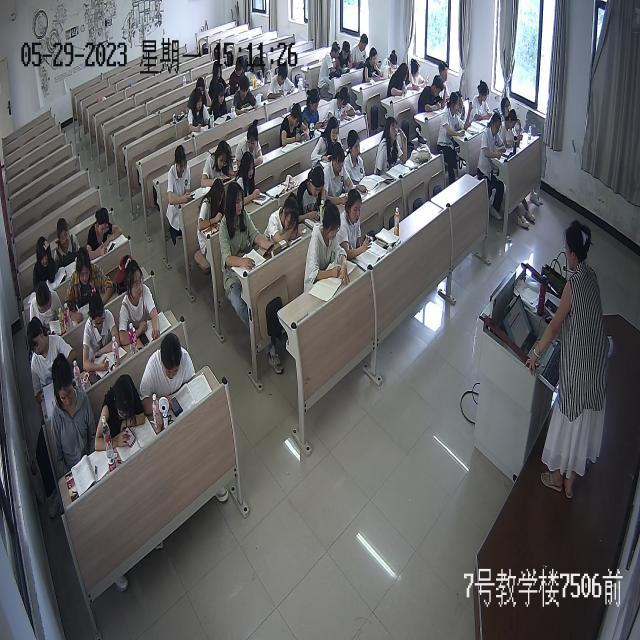distracted: (47, 351, 101, 471), (27, 319, 78, 391), (29, 236, 57, 289), (52, 218, 83, 263), (316, 40, 343, 79), (337, 38, 358, 77)
focused: (115, 256, 163, 344), (305, 202, 349, 279), (80, 293, 121, 372), (65, 251, 113, 308), (338, 187, 372, 256), (322, 144, 359, 206), (85, 208, 127, 260), (194, 178, 229, 236), (374, 116, 410, 171), (29, 282, 70, 330), (314, 118, 343, 169), (235, 122, 267, 167), (341, 130, 367, 184), (481, 116, 506, 166), (417, 77, 448, 115), (471, 80, 495, 124), (267, 65, 298, 99), (234, 77, 261, 113), (443, 92, 464, 138), (209, 84, 234, 121), (454, 92, 476, 131), (498, 94, 520, 132), (362, 49, 385, 85), (228, 56, 250, 92), (386, 64, 408, 99), (498, 110, 517, 150), (248, 56, 271, 88), (433, 60, 455, 92), (351, 33, 369, 64)
sleep: (268, 193, 306, 245), (381, 50, 402, 76)
using_phone: (217, 182, 279, 273), (138, 334, 199, 421), (90, 375, 156, 451), (166, 145, 199, 211), (233, 153, 269, 207), (297, 166, 327, 227), (200, 138, 237, 186), (280, 105, 315, 148), (188, 89, 215, 137), (325, 85, 358, 122), (301, 87, 330, 128), (407, 56, 433, 94), (208, 62, 232, 99)
